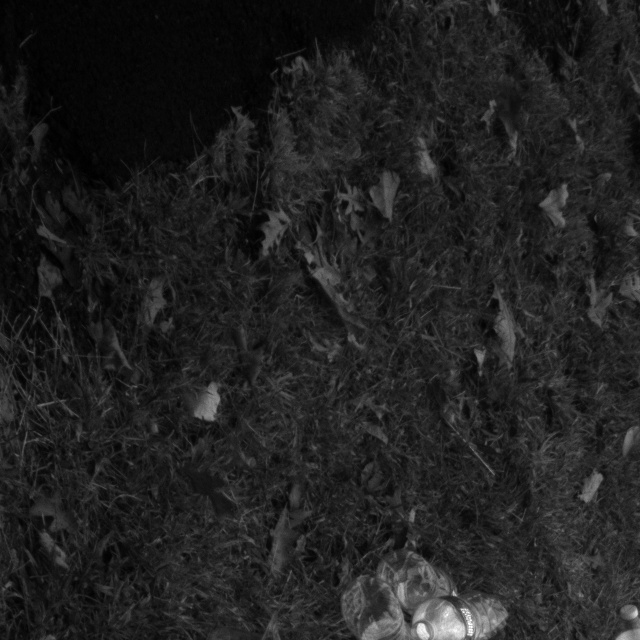bottle: (407, 585, 514, 640)
